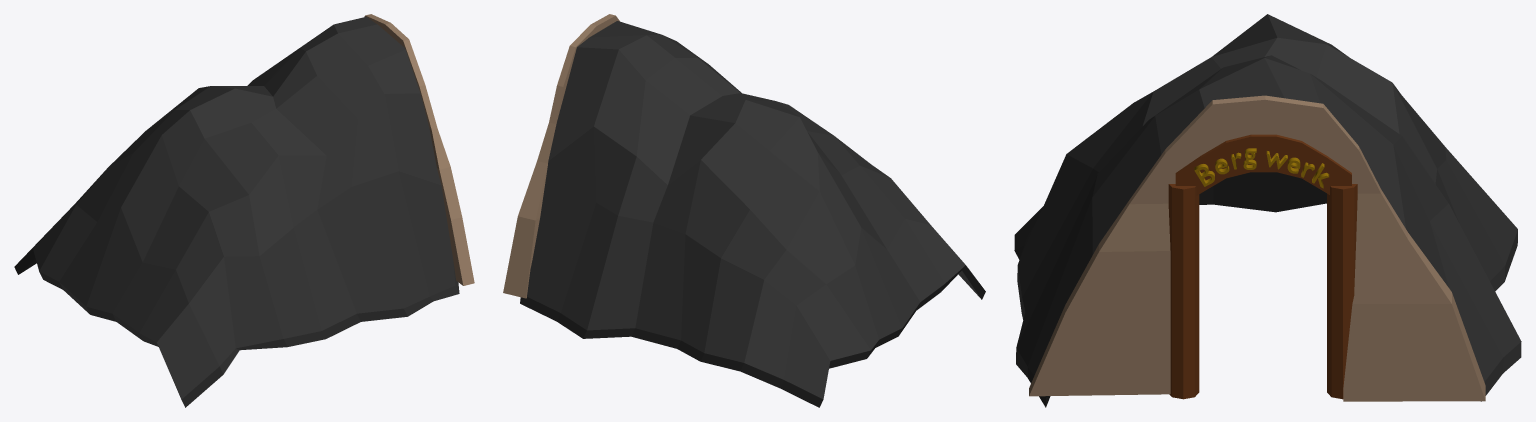
File: Miene2.fbx
3 views of the same model, side by side, from view 1: azimuth 30°, elevation 25°; view 2: azimuth 150°, elevation 25°; view 3: azimuth 270°, elevation 25° (orthographic). The views are drawn at different scales.
Visible parts, largest first — view 1: Plane.001, Cube.001; view 2: Plane.001, Cube.001; view 3: Plane.001, Cube.001, Cylinder.013, Text.
Part boxes in pixels (x1=…): Plane.001: x1=14, y1=17, x2=459, y2=407; Cube.001: x1=364, y1=14, x2=474, y2=285; Plane.001: x1=520, y1=21, x2=985, y2=407; Cube.001: x1=503, y1=14, x2=619, y2=298; Plane.001: x1=1014, y1=14, x2=1521, y2=407; Cube.001: x1=1029, y1=95, x2=1485, y2=401; Cylinder.013: x1=1168, y1=134, x2=1357, y2=399; Text: x1=1194, y1=148, x2=1329, y2=188.
Size of the model in its own units: 3.33 by 2.56 by 3.15.
